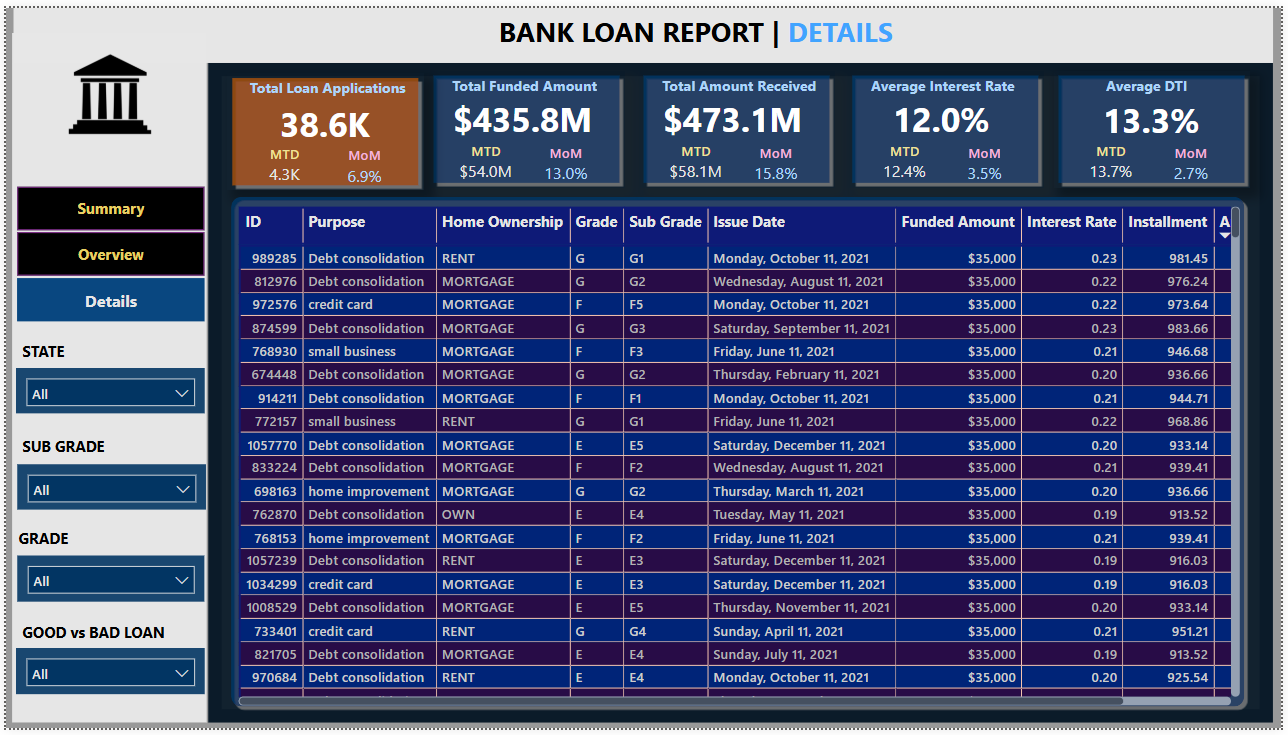

The page's visual inventory and layout, read from the dashboard file:
{"tool":"powerbi","page":{"name":"Details","canvas":[1260,712],"ordinal":2},"visuals":[{"type":"shape","box":[6.8,24.3,191.9,681.1],"z":0},{"type":"shape","box":[624.2,61.5,194.2,116.3],"z":0,"group":"g2"},{"type":"shape","box":[831.2,61.5,194.2,116.3],"z":0,"group":"g3"},{"type":"shape","box":[1034.2,61.5,194.2,116.3],"z":0,"group":"g4"},{"type":"shape","box":[417.2,62.2,194.2,116.3],"z":0,"group":"g1"},{"type":"shape","box":[217.9,64.1,194.2,116.3],"z":0,"group":"g5"},{"type":"shape","box":[7.1,0,1244.3,54.3],"z":1000},{"type":"card","fields":{"Values":["bank_loan_data.Total Amount Received"]},"box":[580.9,88.8,272,42],"z":1000,"group":"g2"},{"type":"card","fields":{"Values":["bank_loan_data.Average Interest Rate"]},"box":[787.9,88.8,272,42],"z":1000,"group":"g3"},{"type":"card","fields":{"Values":["bank_loan_data.Total Funded Amount"]},"box":[373.9,89.5,272,42],"z":1000,"group":"g1"},{"type":"card","fields":{"Values":["bank_loan_data.avg dti"]},"box":[994.9,90.5,272,42],"z":1000,"group":"g4"},{"type":"card","fields":{"Values":["bank_loan_data.Total Loan Applications"]},"box":[178.6,93.1,272,42],"z":1000,"group":"g5"},{"type":"textbox","box":[1080.9,61.5,199,31],"z":2000,"group":"g4"},{"type":"textbox","box":[642.9,61.8,199,31],"z":2000,"group":"g2"},{"type":"textbox","box":[849.9,61.8,199,31],"z":2000,"group":"g3"},{"type":"textbox","box":[435.9,62.5,199,31],"z":2000,"group":"g1"},{"type":"textbox","box":[234.9,63.9,198.6,31.4],"z":2000,"group":"g5"},{"type":"textbox","box":[247.4,192.3,198.7,30.8],"z":2000},{"type":"textbox","box":[274.3,0,814.3,54.3],"z":3000},{"type":"card","title":"MTD","fields":{"Values":["bank_loan_data.MTD Total Amount Received"]},"box":[638.2,131.9,86.7,45.3],"z":3000,"group":"g2"},{"type":"card","title":"MTD","fields":{"Values":["bank_loan_data.MTD Average Interest Rate"]},"box":[845.2,131.9,86.7,45.3],"z":3000,"group":"g3"},{"type":"card","title":"MTD","fields":{"Values":["bank_loan_data.MTD Avg Dti"]},"box":[1048.2,131.9,86.7,45.3],"z":3000,"group":"g4"},{"type":"card","title":"MTD","fields":{"Values":["bank_loan_data.MTD Funded Amount"]},"box":[431.2,132.6,86.7,45.3],"z":3000,"group":"g1"},{"type":"card","title":"MTD","fields":{"Values":["bank_loan_data.MTD Loan Applications"]},"box":[231.9,134.5,86.7,45.3],"z":3000,"group":"g5"},{"type":"shape","box":[200,54.1,1051.4,651.4],"z":4000},{"type":"card","title":"MoM","fields":{"Values":["bank_loan_data.MoM Total Amount Received"]},"box":[727.6,132.8,64,44],"z":4000,"group":"g2"},{"type":"card","title":"MoM","fields":{"Values":["bank_loan_data.MoM Avg Interest Rate"]},"box":[934.6,132.8,64,44],"z":4000,"group":"g3"},{"type":"card","title":"MoM","fields":{"Values":["bank_loan_data.MoM Avg dti"]},"box":[1137.6,132.8,64,44],"z":4000,"group":"g4"},{"type":"card","title":"MoM","fields":{"Values":["bank_loan_data.MoM Total Funded Amount"]},"box":[520.6,133.5,64,44],"z":4000,"group":"g1"},{"type":"card","title":"MoM","fields":{"Values":["bank_loan_data.MoM Loan Applications"]},"box":[321.3,135.4,64,44],"z":4000,"group":"g5"},{"type":"group","id":"g1","title":"Group 1","box":[373.9,62.2,271.8,115.4],"z":5000},{"type":"group","id":"g2","title":"Group 1","box":[580.9,61.5,271.8,116.7],"z":6000},{"type":"group","id":"g3","title":"Group 1","box":[787.9,61.5,271.8,116.7],"z":7000},{"type":"group","id":"g4","title":"Group 1","box":[994.9,61.5,284.6,116.7],"z":8000},{"type":"group","id":"g5","title":"Group 1","box":[178.6,63.9,272,116.5],"z":9000},{"type":"shape","box":[217.6,181.1,1010.8,513.5],"z":10000},{"type":"slicer","fields":{"Values":["bank_loan_data.sub_grade"]},"box":[10.8,450,186.5,44.6],"z":11000},{"type":"textbox","box":[10.8,417.6,116.2,32.4],"z":12000},{"type":"slicer","fields":{"Values":["bank_loan_data.grade"]},"box":[10.8,540.5,185.1,45.9],"z":13000},{"type":"textbox","box":[7.5,508.7,75.7,32.4],"z":14000},{"type":"textbox","box":[10.8,601.4,185.1,31.1],"z":15000},{"type":"slicer","fields":{"Values":["bank_loan_data.Good vs Bad Loan"]},"box":[9.5,632.4,186.5,45.9],"z":16000},{"type":"tableEx","fields":{"Values":["bank_loan_data.id","bank_loan_data.purpose","bank_loan_data.home_ownership","bank_loan_data.grade","bank_loan_data.sub_grade","bank_loan_data.issue_date","bank_loan_data.Total Funded Amount","Sum(bank_loan_data.int_rate)","Sum(bank_loan_data.installment)","bank_loan_data.Total Amount Received"]},"box":[223,191.9,1000,502.7],"z":17000},{"type":"pageNavigator","box":[10.8,177,185.1,135.1],"z":18000},{"type":"slicer","fields":{"Values":["bank_loan_data.State"]},"box":[9.5,355.4,186.5,44.6],"z":19000},{"type":"textbox","box":[10.8,323,64.9,32.4],"z":20000},{"type":"image","box":[35.1,10.8,135.1,156.8],"z":21000}]}

Visuals, with their boxes in screenshot pixels (x1, y1, x2, y2), scaled from the page's 1260x712 canvas onto the 1288x735 screenshot:
shape: box(7, 25, 203, 728)
shape: box(638, 63, 837, 184)
shape: box(850, 63, 1048, 184)
shape: box(1057, 63, 1256, 184)
shape: box(426, 64, 625, 184)
shape: box(223, 66, 421, 186)
shape: box(7, 0, 1279, 56)
card - bank_loan_data.Total Amount Received: box(594, 92, 872, 135)
card - bank_loan_data.Average Interest Rate: box(805, 92, 1083, 135)
card - bank_loan_data.Total Funded Amount: box(382, 92, 660, 136)
card - bank_loan_data.avg dti: box(1017, 93, 1287, 137)
card - bank_loan_data.Total Loan Applications: box(183, 96, 461, 139)
textbox: box(1105, 63, 1287, 95)
textbox: box(657, 64, 861, 96)
textbox: box(869, 64, 1072, 96)
textbox: box(446, 65, 649, 97)
textbox: box(240, 66, 443, 98)
textbox: box(253, 199, 456, 230)
textbox: box(280, 0, 1113, 56)
"MTD" card: box(652, 136, 741, 183)
"MTD" card: box(864, 136, 953, 183)
"MTD" card: box(1071, 136, 1160, 183)
"MTD" card: box(441, 137, 529, 184)
"MTD" card: box(237, 139, 326, 186)
shape: box(204, 56, 1279, 728)
"MoM" card: box(744, 137, 809, 183)
"MoM" card: box(955, 137, 1021, 183)
"MoM" card: box(1163, 137, 1228, 183)
"MoM" card: box(532, 138, 598, 183)
"MoM" card: box(328, 140, 394, 185)
"Group 1" group: box(382, 64, 660, 183)
"Group 1" group: box(594, 63, 872, 184)
"Group 1" group: box(805, 63, 1083, 184)
"Group 1" group: box(1017, 63, 1287, 184)
"Group 1" group: box(183, 66, 461, 186)
shape: box(222, 187, 1256, 717)
slicer - bank_loan_data.sub_grade: box(11, 465, 202, 511)
textbox: box(11, 431, 130, 465)
slicer - bank_loan_data.grade: box(11, 558, 200, 605)
textbox: box(8, 525, 85, 559)
textbox: box(11, 621, 200, 653)
slicer - bank_loan_data.Good vs Bad Loan: box(10, 653, 200, 700)
tableEx - bank_loan_data.id x bank_loan_data.purpose: box(228, 198, 1250, 717)
pageNavigator: box(11, 183, 200, 322)
slicer - bank_loan_data.State: box(10, 367, 200, 413)
textbox: box(11, 333, 77, 367)
image: box(36, 11, 174, 173)
